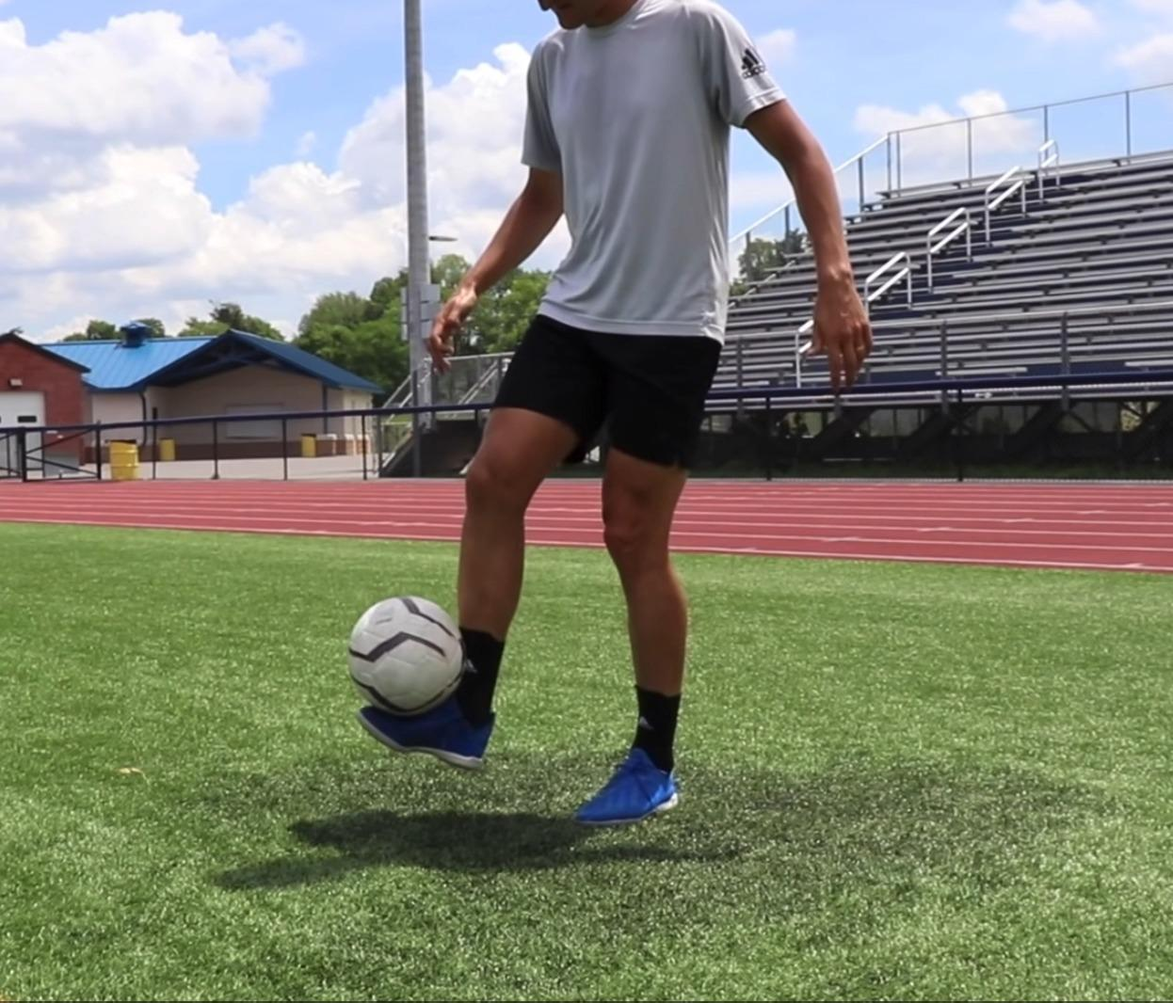ball: (349, 595, 465, 710)
foot: (356, 701, 496, 771), (571, 742, 679, 826)
person: (360, 0, 877, 824)
